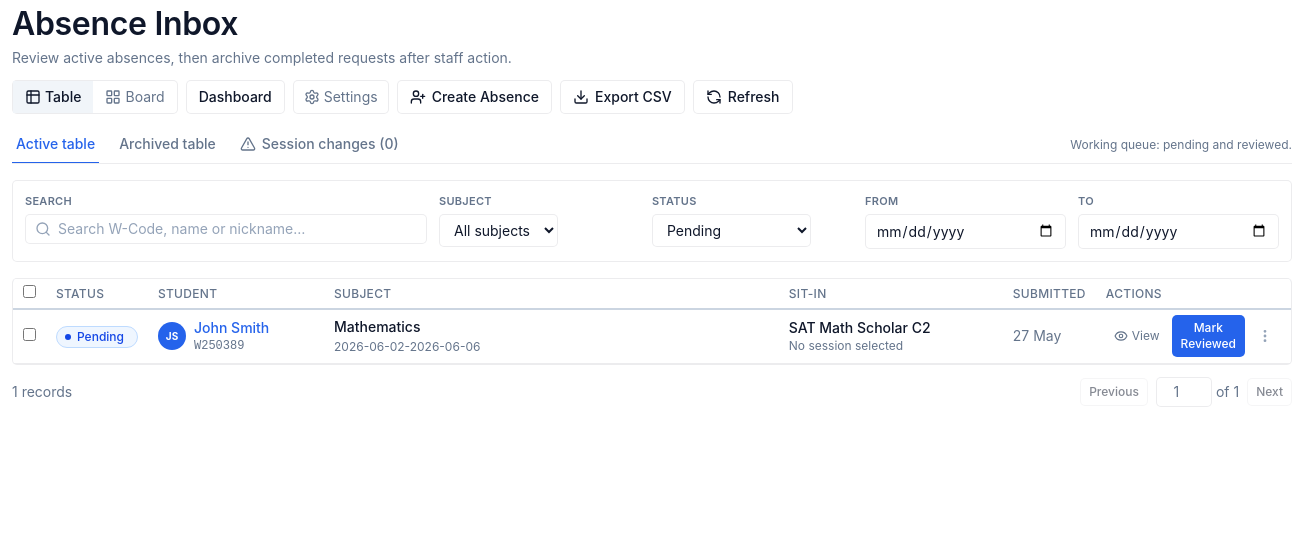
Test: Absence inbox › shows delete button for non-cancelled absences
Expected: the link "John Smith" is shown, left=194, top=318, right=269, bottom=336
Click the button named "more actions".
click(1265, 336)  # box left=1249, top=320, right=1281, bottom=352
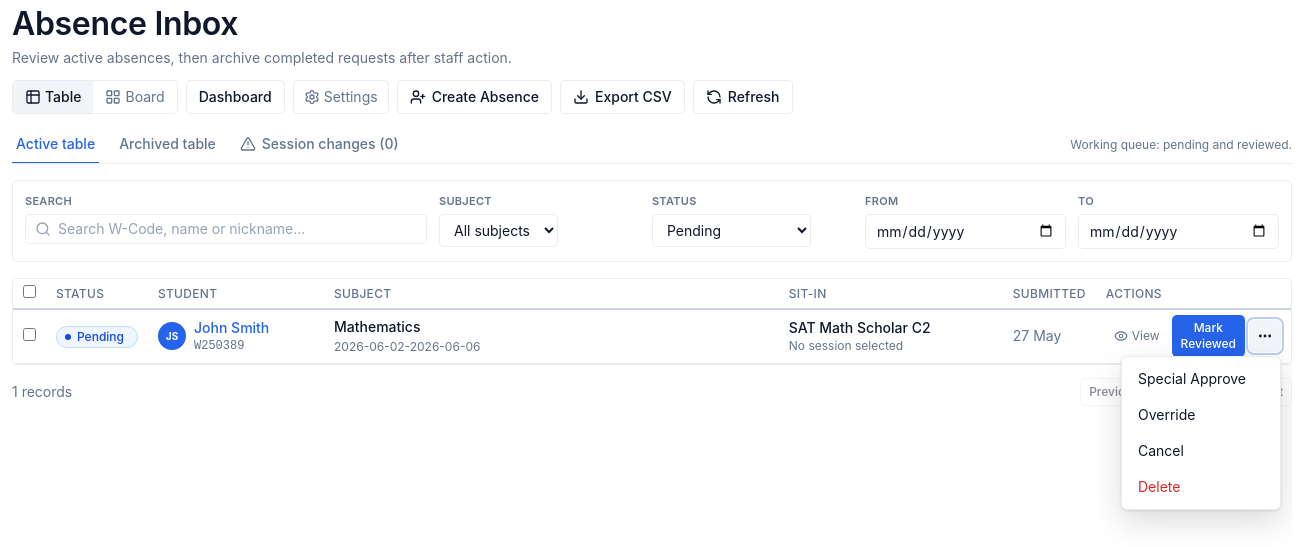
Now the menu item "Delete" is shown, box left=1126, top=468, right=1276, bottom=504
